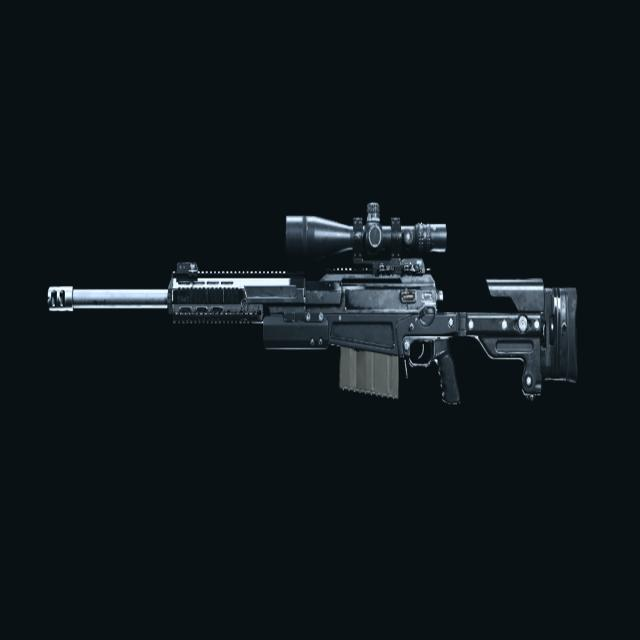Rifle: (48, 203, 578, 408)
